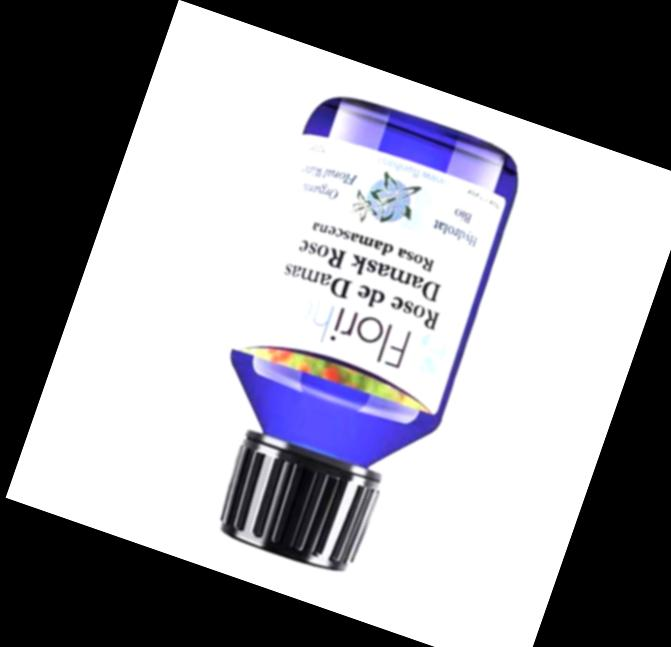cosmetic: (166, 85, 535, 594)
